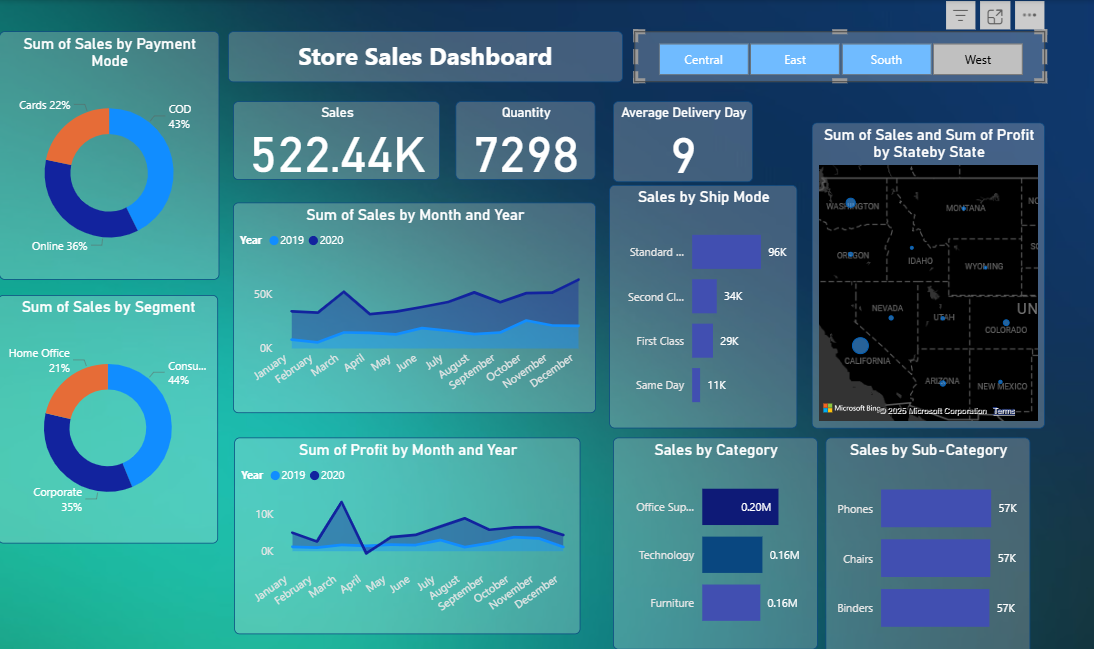

Layout of this report page (visuals, bound fields, positions):
{"tool":"powerbi","page":{"name":"Page 1","canvas":[1280,720],"ordinal":0},"visuals":[{"type":"clusteredBarChart","title":"Sales by Category","fields":{"Category":["SuperStore_Sales_Dataset.Category"],"Y":["Sum(SuperStore_Sales_Dataset.Sales)"]},"box":[675,480,225,232.5],"z":0},{"type":"clusteredBarChart","title":"Sales by Sub-Category","fields":{"Y":["Sum(SuperStore_Sales_Dataset.Sales)"],"Category":["SuperStore_Sales_Dataset.Sub-Category"]},"box":[908.8,480,225,240],"z":1000},{"type":"clusteredBarChart","title":"Sales by Ship Mode","fields":{"Category":["SuperStore_Sales_Dataset.Ship Mode"],"Y":["Sum(SuperStore_Sales_Dataset.Sales)"]},"box":[671.2,203.8,206.2,267.5],"z":2000},{"type":"stackedAreaChart","fields":{"Category":["SuperStore_Sales_Dataset.Order Date.Variation.Date Hierarchy.Month","SuperStore_Sales_Dataset.Order Date.Variation.Date Hierarchy.Day"],"Y":["Sum(SuperStore_Sales_Dataset.Sales)"],"Series":["SuperStore_Sales_Dataset.Order Date.Variation.Date Hierarchy.Year"]},"box":[257.5,222.5,398.8,231.2],"z":3000},{"type":"stackedAreaChart","fields":{"Category":["SuperStore_Sales_Dataset.Order Date.Variation.Date Hierarchy.Month","SuperStore_Sales_Dataset.Order Date.Variation.Date Hierarchy.Day"],"Series":["SuperStore_Sales_Dataset.Order Date.Variation.Date Hierarchy.Year"],"Y":["Sum(SuperStore_Sales_Dataset.Profit)"]},"box":[260,480,380,216.2],"z":4000},{"type":"map","title":"Sum of Sales and Sum of Profit by Stateby State","fields":{"Category":["SuperStore_Sales_Dataset.State"],"Size":["Sum(SuperStore_Sales_Dataset.Sales)"]},"box":[893.8,135,256.2,336.2],"z":4002},{"type":"donutChart","fields":{"Category":["SuperStore_Sales_Dataset.Payment Mode"],"Y":["Sum(SuperStore_Sales_Dataset.Sales)"]},"box":[1.2,33.8,241.2,272.5],"z":4004},{"type":"donutChart","fields":{"Category":["SuperStore_Sales_Dataset.Segment"],"Y":["Sum(SuperStore_Sales_Dataset.Sales)"]},"box":[0,323.8,241.2,272.5],"z":4005},{"type":"slicer","fields":{"Values":["SuperStore_Sales_Dataset.Region"]},"box":[698.8,33.8,451.2,56.2],"z":4006},{"type":"textbox","box":[252.5,33.8,433.8,56.2],"z":4007},{"type":"card","title":"Sales","fields":{"Values":["Sum(SuperStore_Sales_Dataset.Sales)"]},"box":[257.5,111.2,227.5,86.2],"z":4008},{"type":"card","title":"Quantity","fields":{"Values":["Sum(SuperStore_Sales_Dataset.Quantity)"]},"box":[502.5,111.2,153.8,86.2],"z":4009},{"type":"card","title":"Average Delivery Day","fields":{"Values":["Avg(SuperStore_Sales_Dataset.AvgDelivery)"]},"box":[675,111.2,153.8,88.8],"z":4010}]}

Visuals, with their boxes on the page's 1280x720 design canvas (x1, y1, x2, y2). These are canvas units, not pixel positions in the 1094x649 screenshot, which may show the page scaled, cropped or inside an application window:
"Sales by Category" clusteredBarChart: bbox=[675, 480, 900, 712]
"Sales by Sub-Category" clusteredBarChart: bbox=[909, 480, 1134, 720]
"Sales by Ship Mode" clusteredBarChart: bbox=[671, 204, 877, 471]
stackedAreaChart - SuperStore_Sales_Dataset.Order Date.Variation.Date Hierarchy.Month x SuperStore_Sales_Dataset.Order Date.Variation.Date Hierarchy.Day: bbox=[258, 222, 656, 454]
stackedAreaChart - SuperStore_Sales_Dataset.Order Date.Variation.Date Hierarchy.Month x SuperStore_Sales_Dataset.Order Date.Variation.Date Hierarchy.Day: bbox=[260, 480, 640, 696]
"Sum of Sales and Sum of Profit by Stateby State" map: bbox=[894, 135, 1150, 471]
donutChart - SuperStore_Sales_Dataset.Payment Mode x Sum(SuperStore_Sales_Dataset.Sales): bbox=[1, 34, 242, 306]
donutChart - SuperStore_Sales_Dataset.Segment x Sum(SuperStore_Sales_Dataset.Sales): bbox=[0, 324, 241, 596]
slicer - SuperStore_Sales_Dataset.Region: bbox=[699, 34, 1150, 90]
textbox: bbox=[252, 34, 686, 90]
"Sales" card: bbox=[258, 111, 485, 197]
"Quantity" card: bbox=[502, 111, 656, 197]
"Average Delivery Day" card: bbox=[675, 111, 829, 200]
